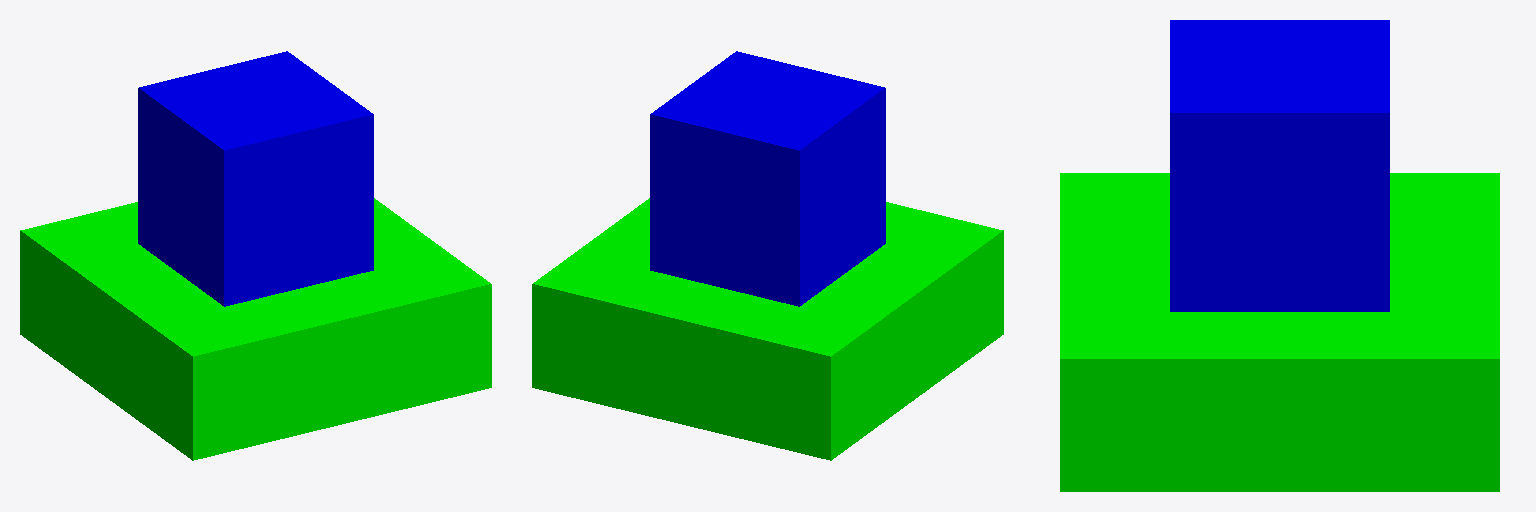
robot.urdf — simple_prismatic_robot:
<?xml version="1.0"?>
<robot name="simple_prismatic_robot">

  <!-- Base Link (fixed platform) -->
  <link name="base_link">
    <visual>
      <geometry>
        <box size="0.3 0.3 0.1"/>
      </geometry>
      <origin xyz="0 0 0" rpy="0 0 0"/>
      <material name="green">
        <color rgba="0 1 0 1"/>
      </material>
    </visual>
  </link>

  <!-- End Effector Link (moving part) -->
  <link name="end_effector_link">
    <visual>
      <geometry>
        <box size="0.15 0.15 0.2"/>
      </geometry>
      <origin xyz="0 0 0" rpy="0 0 0"/>
      <material name="blue">
        <color rgba="0 0 1 1"/>
      </material>
    </visual>
  </link>

  <!-- Prismatic Joint (translates along Z-axis) -->
  <joint name="prismatic_joint" type="prismatic">
    <parent link="base_link"/>
    <child link="end_effector_link"/>
    <origin xyz="0 0 0.1" rpy="0 0 0"/>
    <axis xyz="0 0 1"/>
    <limit lower="0" upper="0.5" effort="1000" velocity="0.1"/>
  </joint>

</robot>

--- Render facts (derived) ---
The picture shows the robot from 3 angles, left to right: view 1: azimuth 30°, elevation 25°; view 2: azimuth 150°, elevation 25°; view 3: azimuth 270°, elevation 25°; orthographic projection.
Robot: simple_prismatic_robot — 2 links, 1 joints (1 prismatic); root link base_link; default pose: every joint at zero.
Visible links, largest first — view 1: base_link, end_effector_link; view 2: base_link, end_effector_link; view 3: base_link, end_effector_link.
Boxes of the visible links, x1,y1,x2,y2 form: base_link: (20, 198, 491, 460); end_effector_link: (138, 51, 373, 306); base_link: (532, 198, 1003, 460); end_effector_link: (650, 51, 885, 306); base_link: (1060, 173, 1499, 491); end_effector_link: (1170, 20, 1389, 311).
Bounding box of the posed robot: 0.3 × 0.3 × 0.25 m (x, y, z).
Geometry: primitives only (box / cylinder / sphere), no mesh files.
